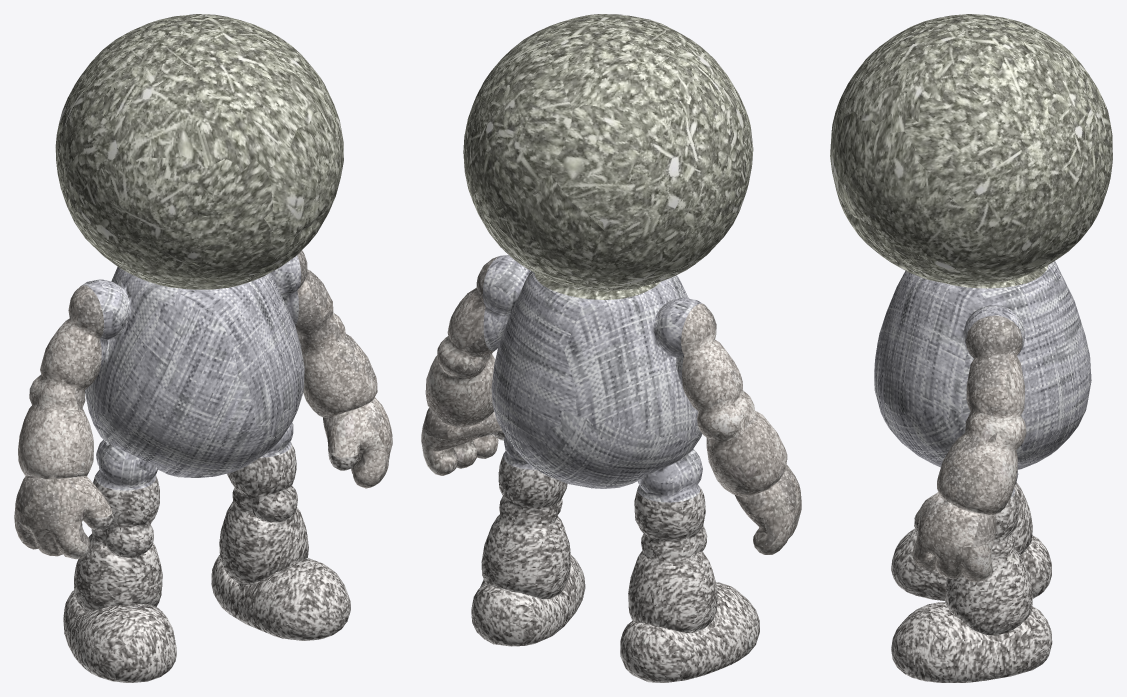
File: 03-pearl-orb-ring--stylized_humanoid_figure_3d_model.glb
The picture shows the model from 3 angles, left to right: view 1: azimuth 30°, elevation 25°; view 2: azimuth 150°, elevation 25°; view 3: azimuth 270°, elevation 25°; orthographic projection.
Visible parts, largest first — view 1: head_mesh, body_mesh, feet_mesh, arms_mesh; view 2: head_mesh, body_mesh, feet_mesh, arms_mesh; view 3: head_mesh, body_mesh, feet_mesh, arms_mesh.
Boxes of the visible parts, x1,y1,x2,y2 form: head_mesh: (55, 14, 343, 289); body_mesh: (81, 255, 304, 490); feet_mesh: (63, 443, 358, 682); arms_mesh: (14, 250, 392, 559); head_mesh: (463, 14, 753, 299); body_mesh: (482, 255, 705, 502); feet_mesh: (471, 431, 759, 682); arms_mesh: (421, 256, 801, 554); head_mesh: (830, 14, 1112, 288); body_mesh: (874, 261, 1091, 497); feet_mesh: (891, 482, 1052, 682); arms_mesh: (912, 288, 1026, 581).
Bounding box in the file's own units: 1.89 × 3 × 1.28.
Materials: 4 (4 with a texture image).
